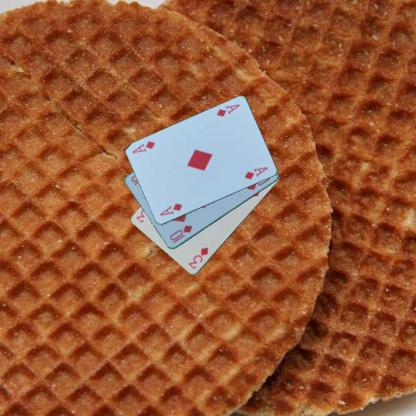10d: (167, 222, 194, 245)
3d: (186, 245, 210, 270)
Ad: (157, 200, 184, 218), (214, 102, 241, 118)
